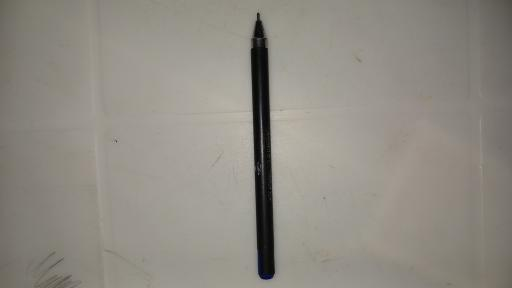pen: (253, 8, 274, 283)
